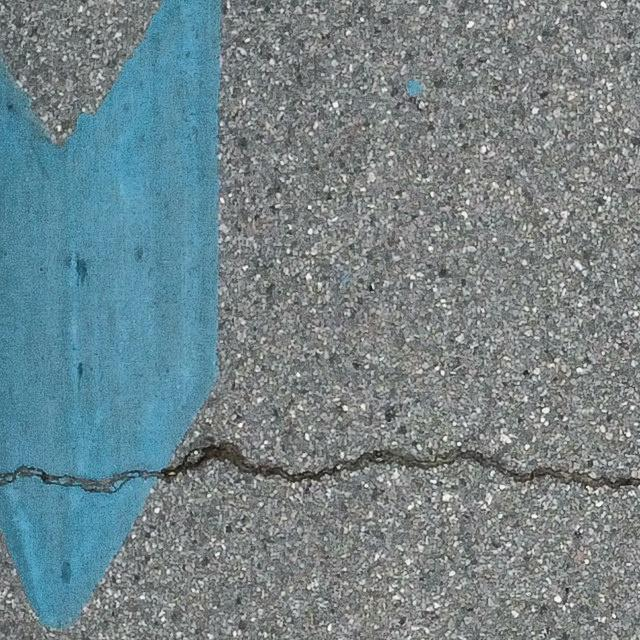TransverseCrack: (1, 438, 640, 493)
